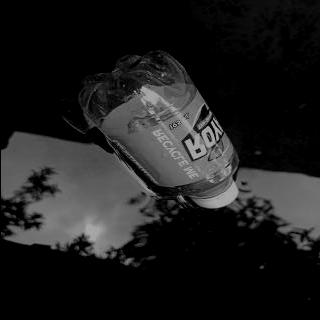bottle: (75, 49, 240, 210)
